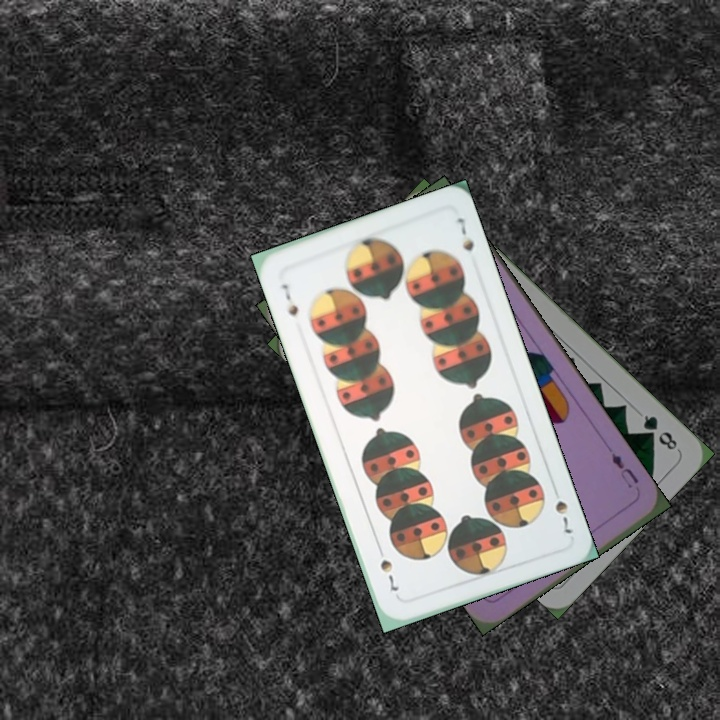EU: (607, 449, 641, 491)
G8: (638, 411, 680, 454)
S7: (548, 482, 578, 537), (278, 280, 301, 319)
